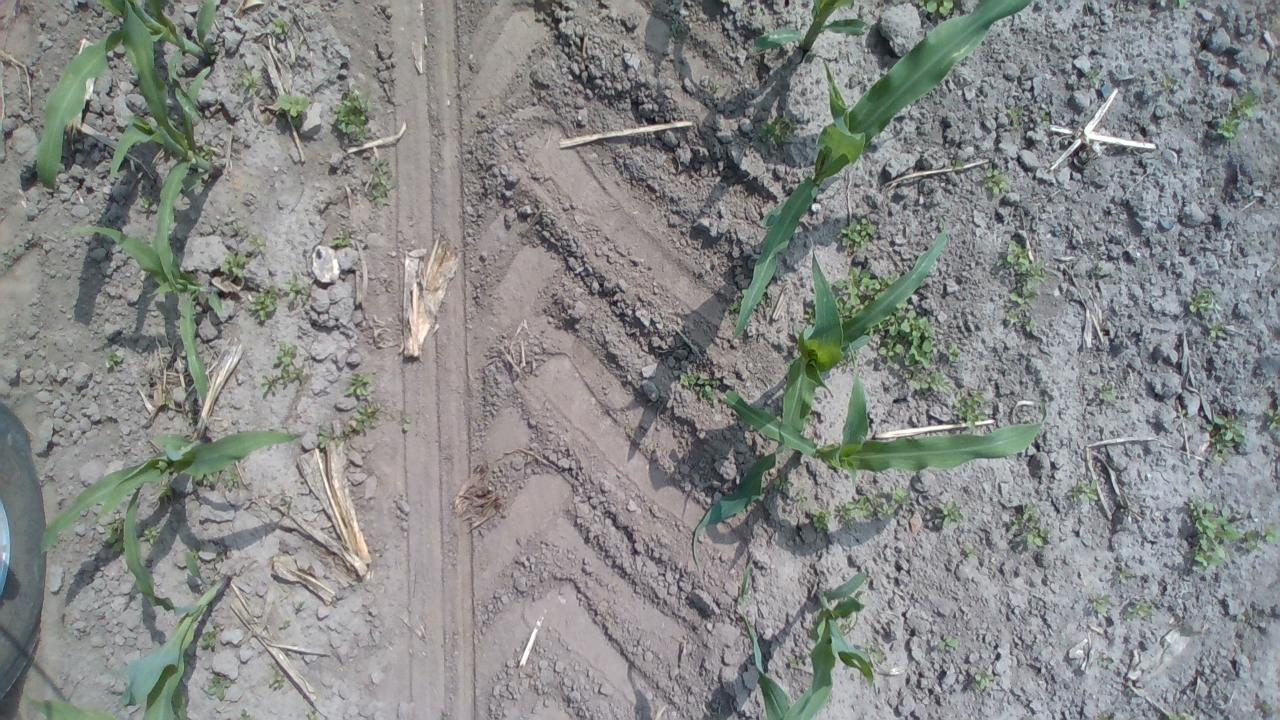Maize: (732, 0, 1034, 337), (691, 213, 950, 566), (27, 484, 232, 720), (99, 0, 220, 294), (36, 0, 218, 194), (723, 374, 1048, 480), (37, 430, 300, 552), (65, 222, 229, 412), (736, 557, 878, 720), (754, 0, 868, 57)
Weeds: (864, 300, 938, 373), (1186, 500, 1240, 572), (831, 267, 899, 324), (1205, 413, 1245, 461), (332, 90, 372, 138), (1012, 501, 1050, 548), (1009, 261, 1047, 304), (367, 158, 395, 210), (954, 388, 988, 430), (274, 341, 304, 382), (758, 113, 796, 143), (840, 219, 874, 252), (838, 495, 872, 528), (996, 241, 1030, 273), (250, 284, 278, 320), (904, 373, 952, 394), (1186, 288, 1223, 314), (102, 515, 126, 554), (276, 93, 310, 118), (236, 66, 262, 95), (983, 168, 1010, 195), (220, 252, 248, 278), (283, 275, 312, 300), (1123, 600, 1155, 622), (1231, 91, 1258, 117), (914, 0, 954, 17), (939, 500, 965, 526), (1072, 479, 1098, 505), (345, 371, 370, 397), (354, 405, 378, 432), (206, 674, 230, 701), (1217, 115, 1241, 140), (698, 378, 721, 403), (726, 288, 748, 312), (1090, 594, 1111, 616), (812, 508, 831, 532), (802, 296, 818, 324), (863, 640, 885, 660), (836, 612, 856, 634), (202, 624, 220, 648), (971, 672, 994, 690), (1244, 530, 1261, 554), (1261, 523, 1280, 544), (142, 525, 161, 546), (271, 16, 290, 35), (105, 348, 123, 368), (1265, 405, 1280, 429), (1006, 106, 1022, 128), (680, 372, 697, 392), (224, 470, 242, 488), (260, 376, 279, 393), (194, 471, 217, 485), (840, 351, 860, 367), (1098, 382, 1115, 400), (248, 235, 266, 252), (1159, 74, 1178, 90), (774, 474, 794, 489), (170, 112, 185, 132), (335, 428, 352, 445), (1207, 322, 1225, 338), (268, 671, 284, 688), (948, 343, 962, 362), (940, 636, 959, 650), (1004, 310, 1020, 326), (204, 42, 218, 60), (890, 488, 908, 502), (876, 503, 895, 516), (198, 144, 213, 160), (332, 232, 349, 246), (795, 490, 807, 509), (317, 428, 329, 447), (159, 482, 174, 497), (1096, 654, 1114, 666), (1118, 568, 1132, 583), (1024, 316, 1035, 333), (668, 23, 682, 36), (1088, 69, 1100, 84), (236, 709, 252, 720), (1167, 713, 1191, 720), (189, 546, 200, 560), (139, 196, 154, 206), (757, 289, 767, 304), (1170, 0, 1188, 8), (1040, 110, 1049, 126), (160, 396, 173, 407), (1094, 263, 1105, 276), (403, 416, 412, 431), (186, 274, 199, 284), (954, 159, 964, 171), (964, 548, 975, 558), (188, 411, 195, 426), (308, 710, 318, 720), (1177, 410, 1188, 419), (279, 620, 289, 628), (214, 552, 224, 560), (1120, 508, 1129, 516), (1238, 614, 1250, 620), (173, 208, 178, 222), (1262, 703, 1270, 711), (713, 83, 719, 92), (282, 506, 290, 512), (628, 428, 634, 436), (720, 0, 729, 3)
